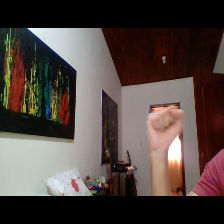9D: (144, 103, 185, 152)
